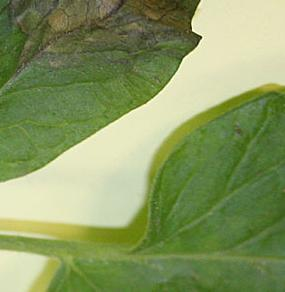Tomato leaf late blight: (0, 0, 237, 224)
